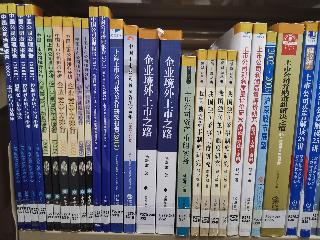book-spine: (258, 22, 305, 239), (283, 20, 320, 237), (150, 29, 183, 236), (236, 21, 267, 236), (131, 27, 162, 234), (250, 31, 278, 237), (7, 2, 32, 232), (1, 3, 26, 230), (226, 22, 252, 237), (16, 4, 40, 231), (23, 3, 46, 232), (296, 25, 320, 238), (34, 14, 56, 231), (41, 15, 62, 233), (51, 16, 71, 234), (174, 54, 198, 235), (216, 50, 239, 235), (206, 49, 228, 236), (62, 17, 81, 232), (198, 48, 218, 234), (107, 19, 124, 232), (190, 50, 207, 236), (73, 18, 87, 232), (80, 18, 94, 232), (88, 7, 101, 232), (124, 24, 137, 234), (99, 6, 111, 232)
